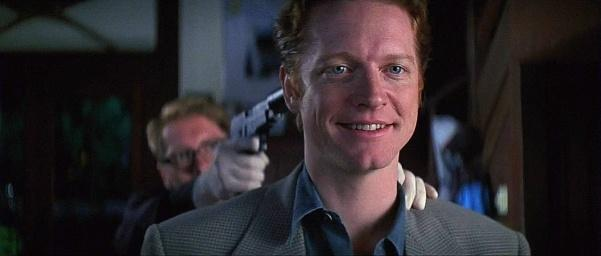Gun: (229, 87, 290, 156)
